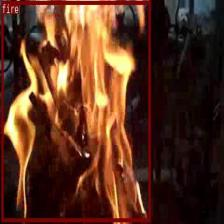fire: (1, 1, 150, 221)
